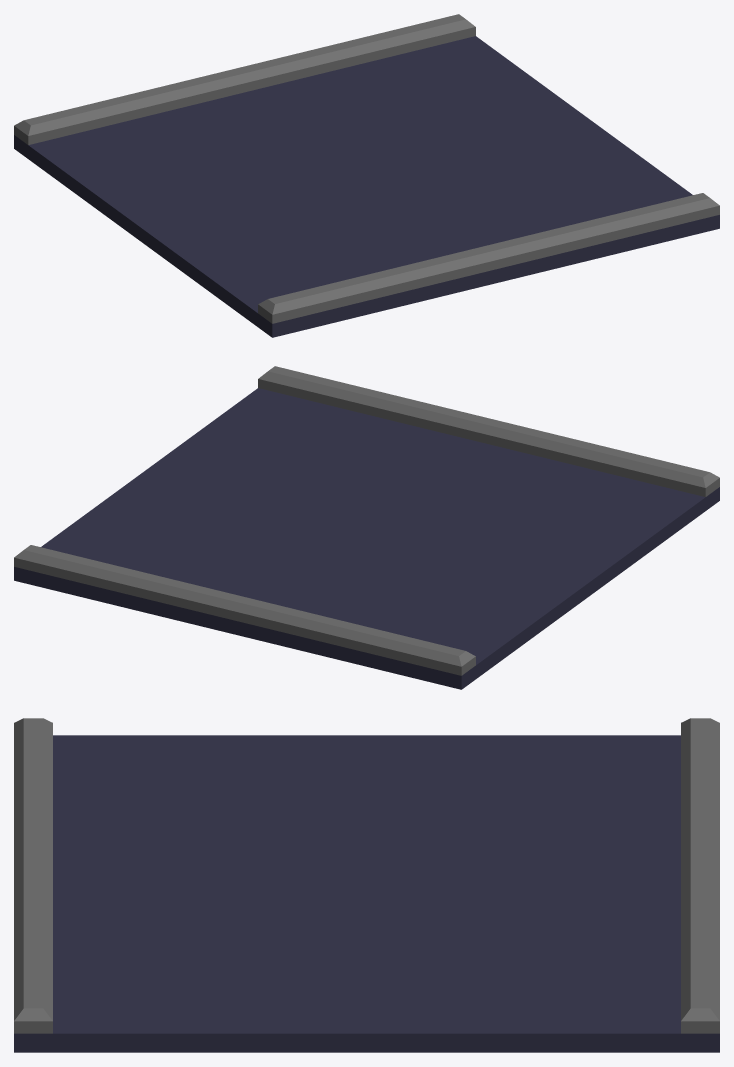
Rendered from Road1.fbx.
3 renders of one model, top to bottom at view 1: azimuth 30°, elevation 25°; view 2: azimuth 150°, elevation 25°; view 3: azimuth 270°, elevation 25°, orthographic. The views are drawn at different scales.
Parts seen in each view (by area): view 1: Road_1; view 2: Road_1; view 3: Road_1.
Boxes of the visible parts, x1=… form: Road_1: x1=14, y1=14, x2=719, y2=337; Road_1: x1=14, y1=366, x2=719, y2=689; Road_1: x1=14, y1=718, x2=719, y2=1052.
Bounding box in the file's own units: 547 × 34.49 × 547.
